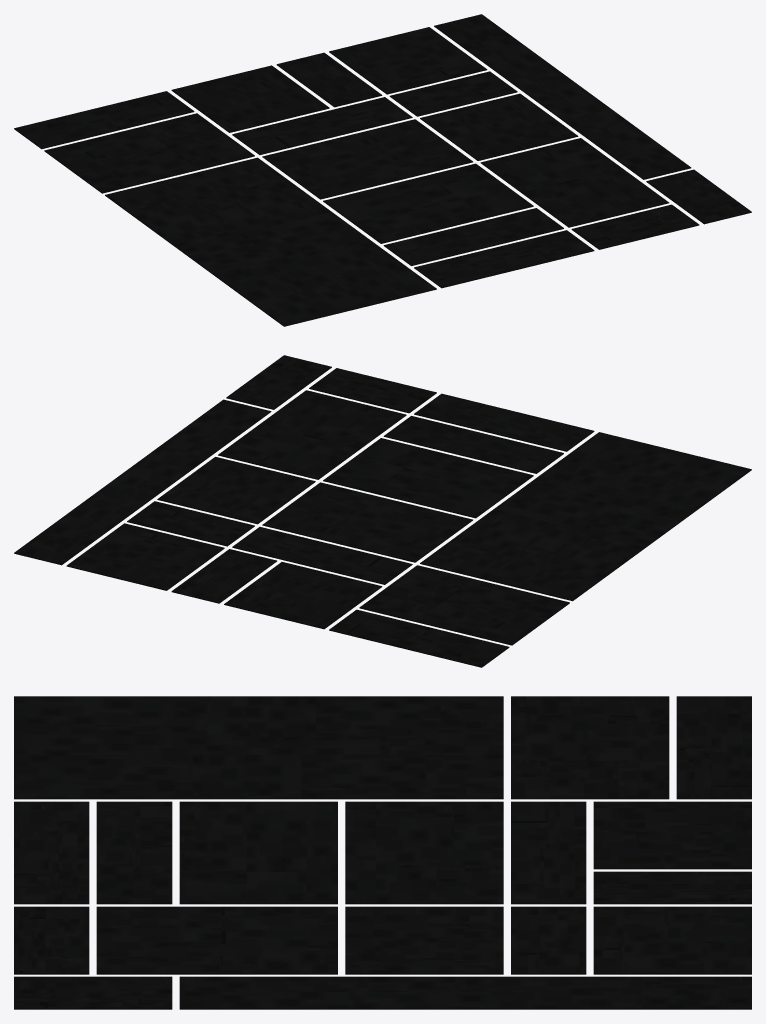
The model's file is scifi_floor.glb.
3 renders of one model, top to bottom at view 1: azimuth 30°, elevation 25°; view 2: azimuth 150°, elevation 25°; view 3: azimuth 270°, elevation 25°, orthographic. The views are drawn at different scales.
Parts seen in each view (by area): view 1: Floor_0; view 2: Floor_0; view 3: Floor_0.
Part boxes in pixels (box(x1,y1,x2,y2)): Floor_0: box(14, 14, 751, 326); Floor_0: box(14, 355, 751, 667); Floor_0: box(14, 696, 751, 1009).
Size of the model in its own units: 119 by 0.2 by 119.
Materials: 1 (1 with a texture image).
